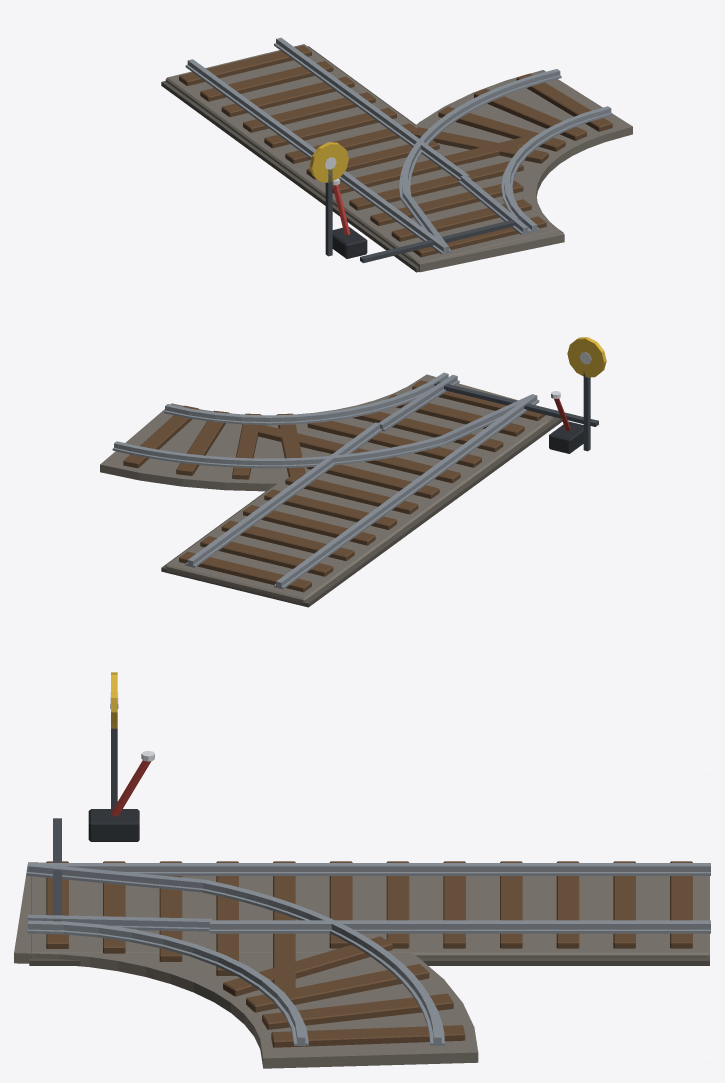
The model's file is rail_aiguillage_d_devie.glb.
3 renders of one model, top to bottom at view 1: azimuth 30°, elevation 25°; view 2: azimuth 150°, elevation 25°; view 3: azimuth 270°, elevation 25°, orthographic. The views are drawn at different scales.
Visible parts, largest first — view 1: rail_ballast.016, rail_traverse.018, rail_rail.018, rail_ballast_sombre.010, rail_acier_sombre.008, rail_acier.008, rail_jaune.004, rail_fonte.008; view 2: rail_ballast.016, rail_traverse.018, rail_rail.018, rail_ballast_sombre.010, rail_acier.008, rail_acier_sombre.008, rail_jaune.004, rail_fonte.008; view 3: rail_ballast.016, rail_traverse.018, rail_rail.018, rail_acier.008, rail_ballast_sombre.010, rail_fonte.008, rail_acier_sombre.008.
Part boxes in pixels (x1,y1,x2,y2): rail_ballast.016: (165, 44, 632, 272); rail_traverse.018: (179, 45, 612, 257); rail_rail.018: (185, 37, 612, 254); rail_ballast_sombre.010: (161, 46, 563, 272); rail_acier_sombre.008: (325, 169, 523, 263); rail_acier.008: (400, 175, 530, 253); rail_jaune.004: (309, 142, 348, 182); rail_fonte.008: (332, 227, 367, 258); rail_ballast.016: (100, 374, 557, 604); rail_traverse.018: (123, 380, 545, 592); rail_rail.018: (112, 372, 539, 589); rail_ballast_sombre.010: (161, 418, 562, 607); rail_acier.008: (378, 374, 538, 444); rail_acier_sombre.008: (434, 371, 598, 451); rail_jaune.004: (567, 337, 606, 377); rail_fonte.008: (549, 421, 583, 453); rail_ballast.016: (14, 862, 709, 1068); rail_traverse.018: (46, 861, 692, 1047); rail_rail.018: (27, 863, 710, 1045); rail_acier.008: (26, 865, 211, 931); rail_ballast_sombre.010: (29, 957, 709, 965); rail_fonte.008: (88, 809, 139, 841); rail_acier_sombre.008: (53, 728, 117, 921).
Size of the model in its own units: 3.07 by 0.777 by 3.07.
